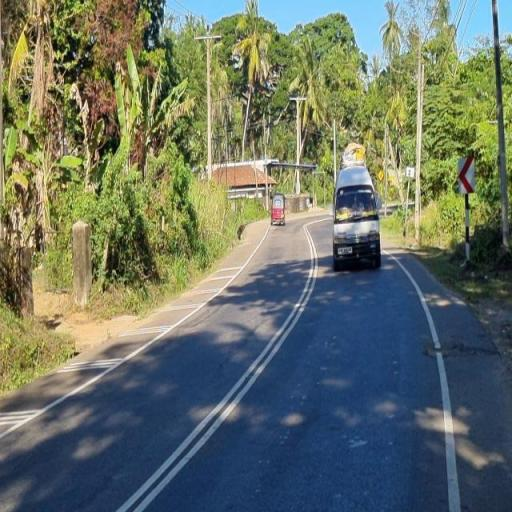double_white_line: (111, 220, 328, 510)
